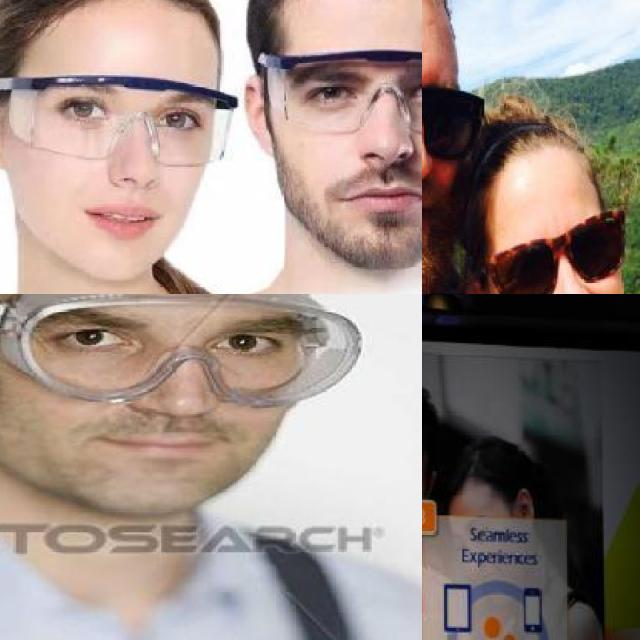face_nomask: (18, 301, 290, 470), (35, 81, 222, 263), (282, 57, 422, 231), (422, 48, 478, 250), (505, 216, 619, 294)
glasses: (0, 294, 360, 411), (0, 74, 237, 168), (259, 46, 422, 133), (487, 204, 626, 294), (422, 47, 487, 168)
head_nohelmet: (448, 107, 598, 206), (5, 0, 225, 43)
person: (424, 92, 640, 294), (422, 0, 480, 294)
